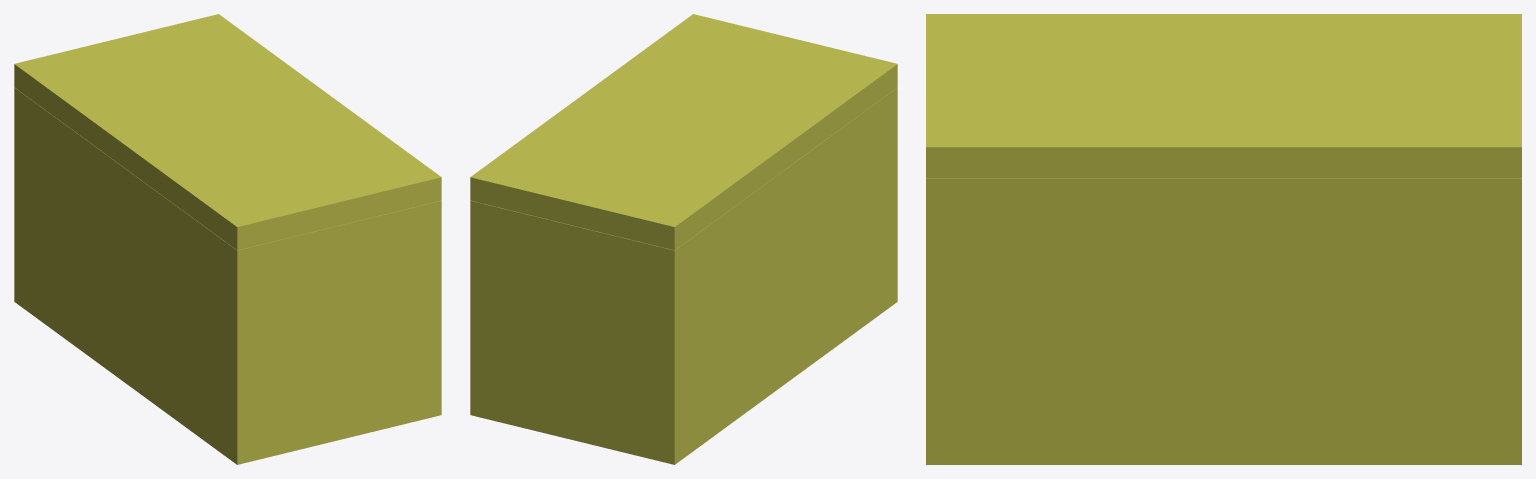
File: sunduk_3.fbx
The picture shows the model from 3 angles, left to right: view 1: azimuth 30°, elevation 25°; view 2: azimuth 150°, elevation 25°; view 3: azimuth 270°, elevation 25°; orthographic projection. The views are drawn at different scales.
Visible parts, largest first — view 1: sunduk_3_main_low, sunduk_3_cover_low; view 2: sunduk_3_main_low, sunduk_3_cover_low; view 3: sunduk_3_main_low, sunduk_3_cover_low.
Boxes of the visible parts, <box> form: sunduk_3_main_low: <box>14,87,441,464</box>; sunduk_3_cover_low: <box>14,14,441,250</box>; sunduk_3_main_low: <box>470,87,897,464</box>; sunduk_3_cover_low: <box>470,14,897,250</box>; sunduk_3_main_low: <box>926,178,1521,464</box>; sunduk_3_cover_low: <box>926,14,1521,178</box>.
Size of the model in its own units: 45 by 50 by 85.
